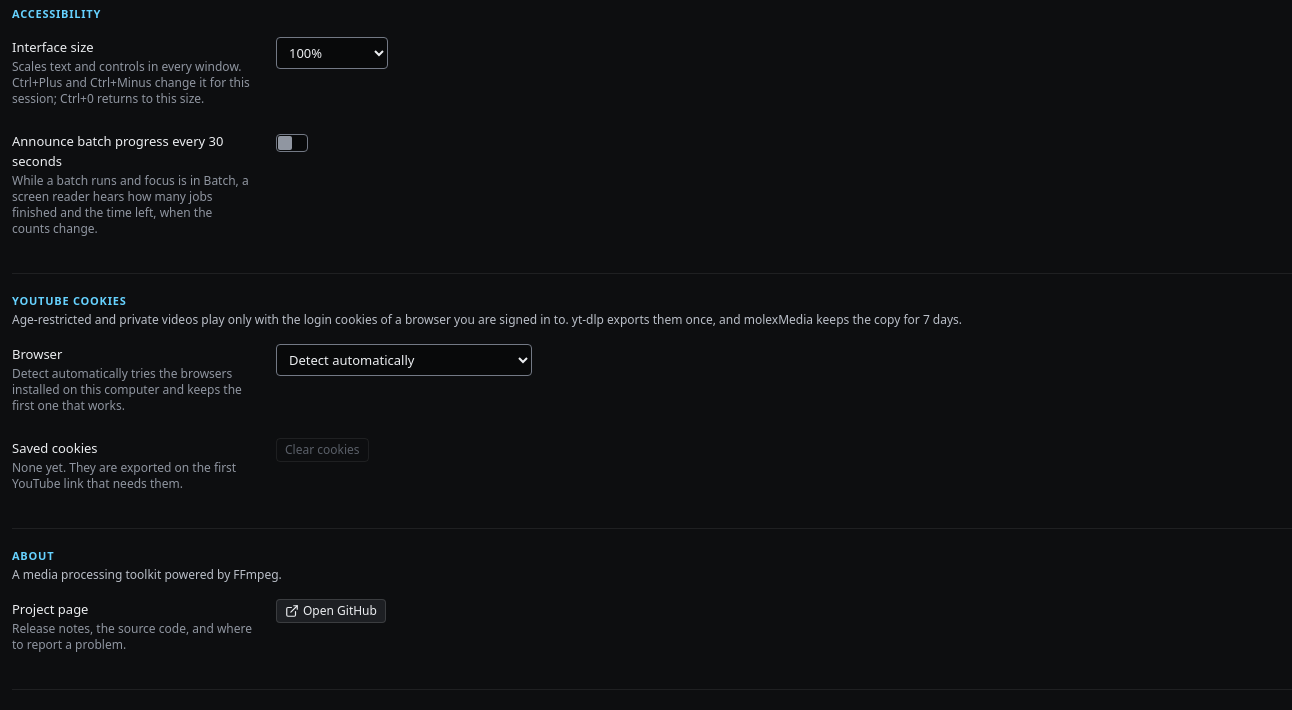
it: YouTube cookies › asks to close the browser first, and Cancel changes nothing
(page scrolled)
Select "Google Chrome" in the dropdown labelled "Browser" at (404, 360), box [276,344,532,376]
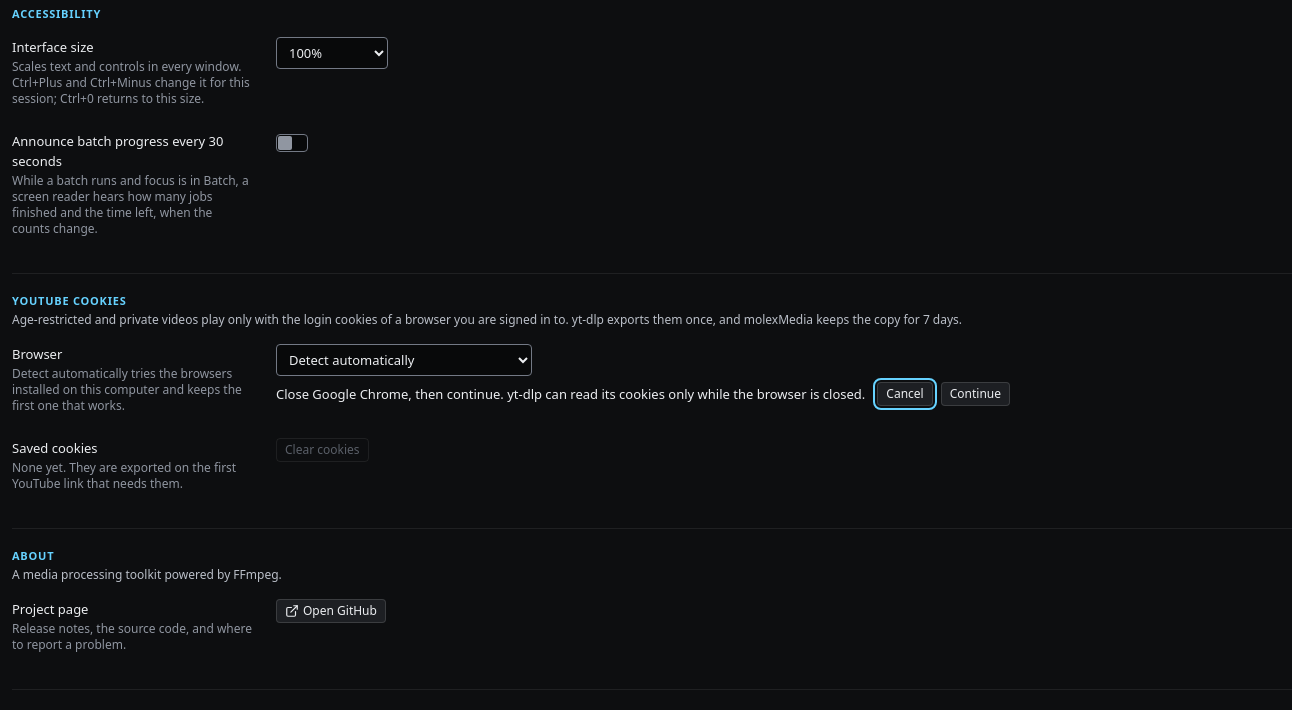
Result: the text "Close Google Chrome, then continue" is shown at [276,385,865,403]
Click the button "Cancel" at (905, 394), box [877,382,933,406]
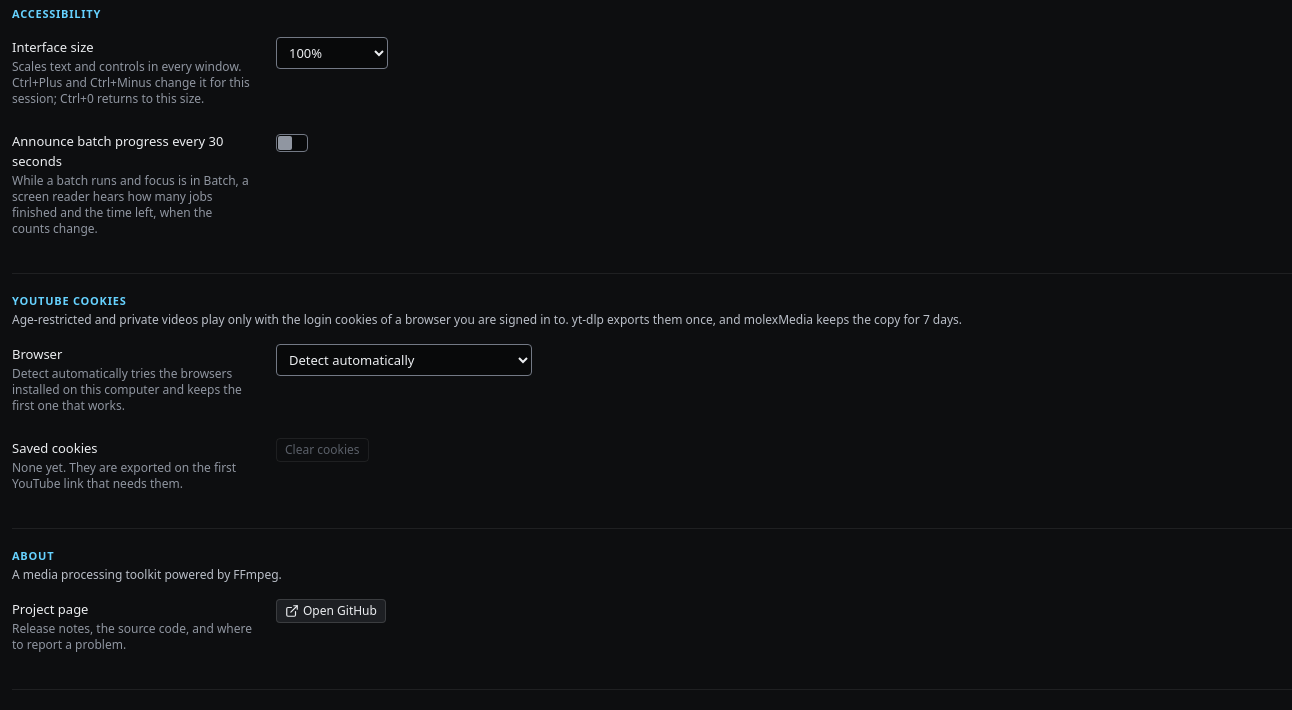
Result: the text "Close Google Chrome" is gone
